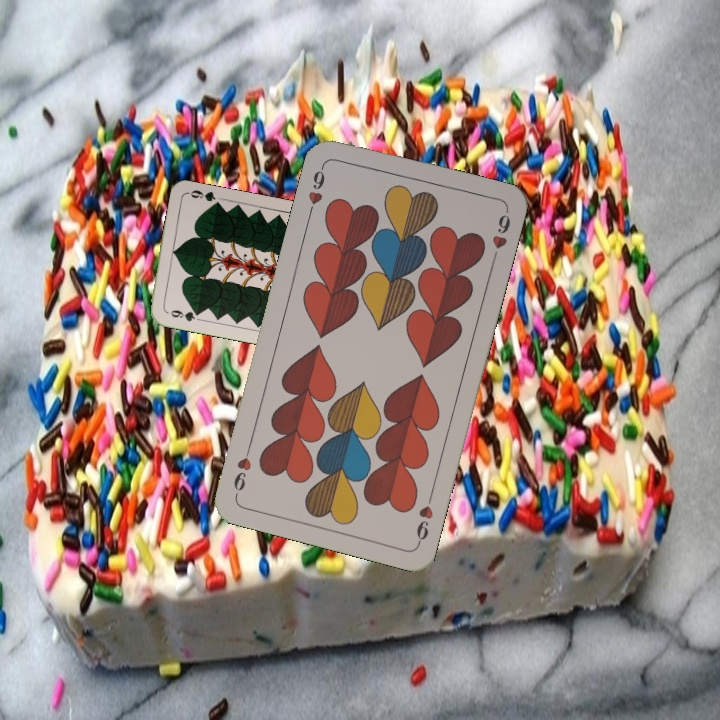G9: (162, 306, 203, 324)
H9: (412, 488, 436, 547), (304, 159, 328, 218)
